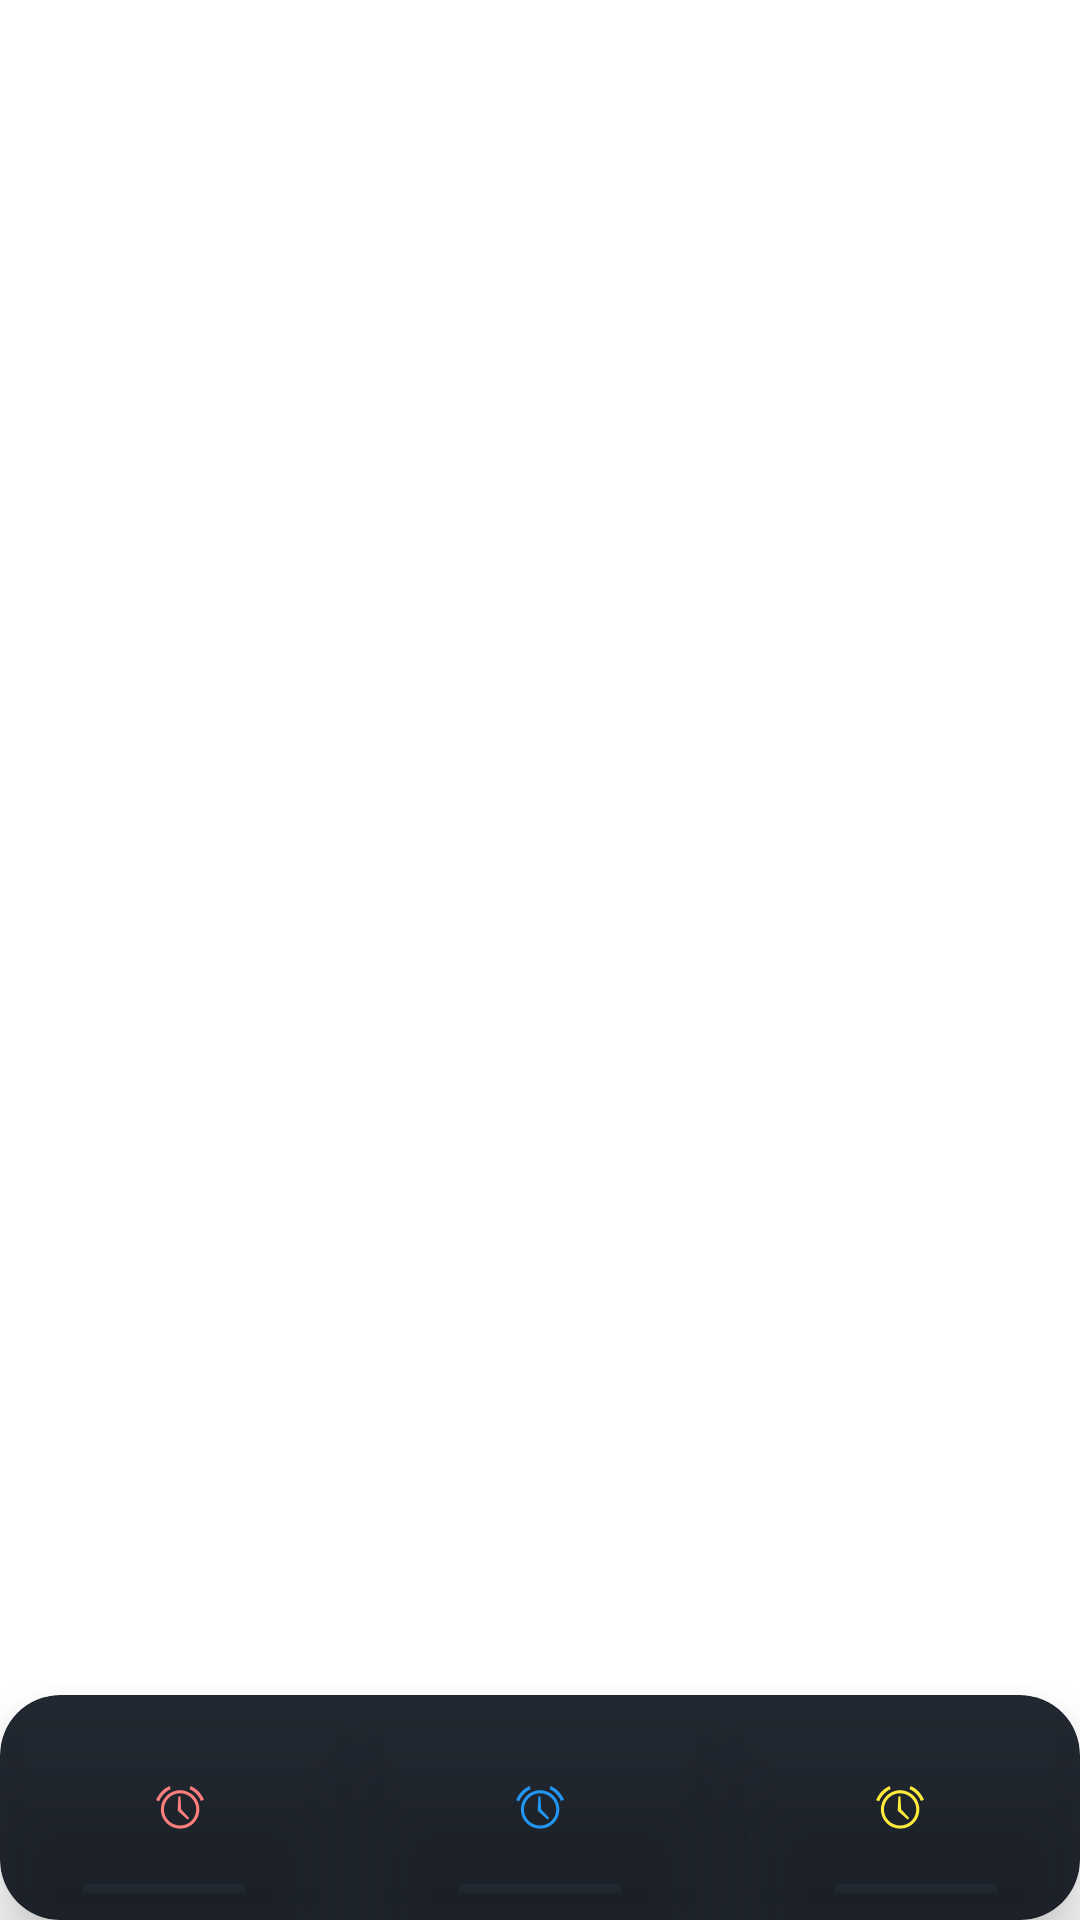

Where to tap for icons on this 1080×1920 app screen, as (x=x, y=y):
lock idle alarm: (x=180, y=1807), (x=900, y=1807), (x=540, y=1807)
